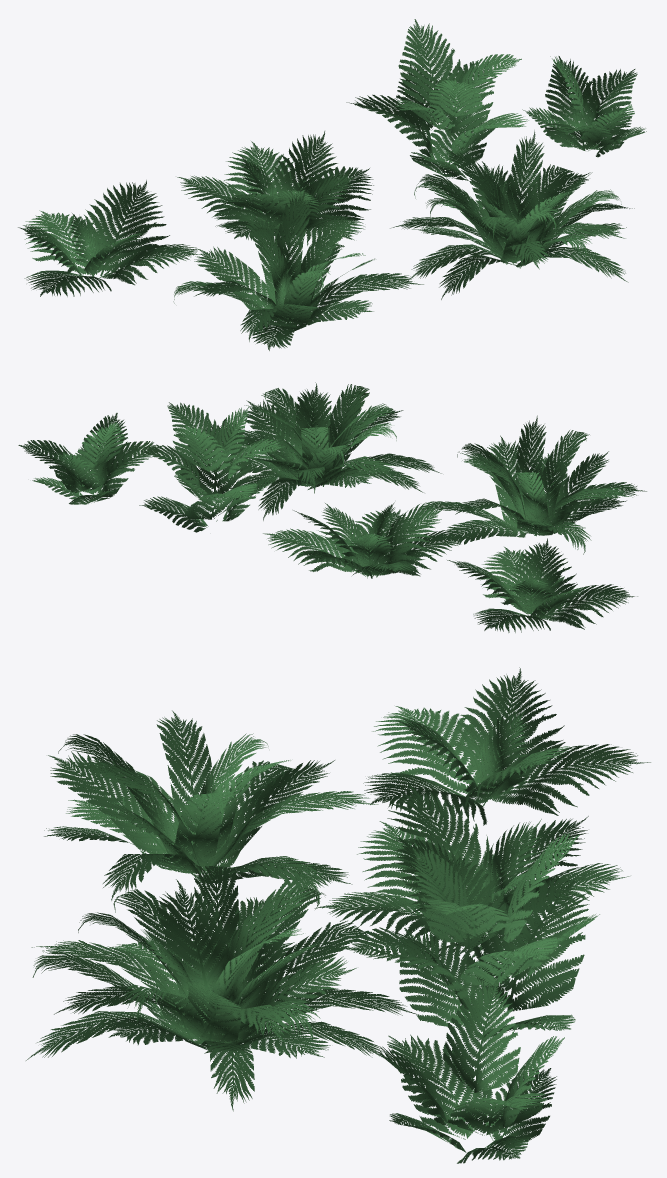
The model's file is Ferns.fbx.
The picture shows the model from 3 angles, top to bottom: view 1: azimuth 30°, elevation 25°; view 2: azimuth 150°, elevation 25°; view 3: azimuth 270°, elevation 25°; orthographic projection. The views are drawn at different scales.
Visible parts, largest first — view 1: SM_AustralianSwordFern_B_LOD0_AustralianSwordFern_0, SM_AustralianSwordFern_A_LOD0_AustralianSwordFern_0, BeadFern_A_LOD0_BeadFern_0, Shuttlecock_Fern_B_LOD0_ShuttlecockFern_0, Shuttlecock_Fern_A_LOD0_ShuttlecockFern_0, BeadFern_B_LOD0_BeadFern_0; view 2: SM_AustralianSwordFern_B_LOD0_AustralianSwordFern_0, SM_AustralianSwordFern_A_LOD0_AustralianSwordFern_0, BeadFern_A_LOD0_BeadFern_0, Shuttlecock_Fern_B_LOD0_ShuttlecockFern_0, Shuttlecock_Fern_A_LOD0_ShuttlecockFern_0, BeadFern_B_LOD0_BeadFern_0; view 3: SM_AustralianSwordFern_B_LOD0_AustralianSwordFern_0, SM_AustralianSwordFern_A_LOD0_AustralianSwordFern_0, BeadFern_A_LOD0_BeadFern_0, Shuttlecock_Fern_A_LOD0_ShuttlecockFern_0, BeadFern_B_LOD0_BeadFern_0, Shuttlecock_Fern_B_LOD0_ShuttlecockFern_0.
Part boxes in pixels (x1=…): SM_AustralianSwordFern_B_LOD0_AustralianSwordFern_0: x1=390, y1=130, x2=634, y2=299; SM_AustralianSwordFern_A_LOD0_AustralianSwordFern_0: x1=173, y1=189, x2=423, y2=350; BeadFern_A_LOD0_BeadFern_0: x1=346, y1=19, x2=528, y2=180; Shuttlecock_Fern_B_LOD0_ShuttlecockFern_0: x1=177, y1=131, x2=373, y2=251; Shuttlecock_Fern_A_LOD0_ShuttlecockFern_0: x1=18, y1=180, x2=200, y2=296; BeadFern_B_LOD0_BeadFern_0: x1=522, y1=56, x2=646, y2=157; SM_AustralianSwordFern_B_LOD0_AustralianSwordFern_0: x1=216, y1=382, x2=441, y2=520; SM_AustralianSwordFern_A_LOD0_AustralianSwordFern_0: x1=418, y1=415, x2=646, y2=554; BeadFern_A_LOD0_BeadFern_0: x1=137, y1=402, x2=284, y2=532; Shuttlecock_Fern_B_LOD0_ShuttlecockFern_0: x1=263, y1=502, x2=470, y2=578; Shuttlecock_Fern_A_LOD0_ShuttlecockFern_0: x1=447, y1=538, x2=637, y2=632; BeadFern_B_LOD0_BeadFern_0: x1=18, y1=413, x2=162, y2=504; SM_AustralianSwordFern_B_LOD0_AustralianSwordFern_0: x1=26, y1=866, x2=418, y2=1111; SM_AustralianSwordFern_A_LOD0_AustralianSwordFern_0: x1=44, y1=710, x2=378, y2=909; BeadFern_A_LOD0_BeadFern_0: x1=345, y1=833, x2=599, y2=1040; Shuttlecock_Fern_A_LOD0_ShuttlecockFern_0: x1=363, y1=667, x2=650, y2=825; BeadFern_B_LOD0_BeadFern_0: x1=375, y1=979, x2=564, y2=1163; Shuttlecock_Fern_B_LOD0_ShuttlecockFern_0: x1=314, y1=781, x2=629, y2=962.
Size of the model in its own units: 541 by 127 by 310.
Materials: 1 (1 with a texture image).
